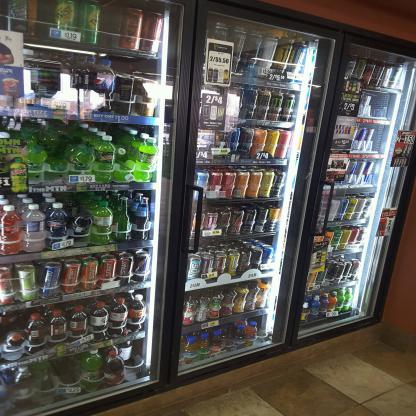Void: (61, 360, 79, 395), (40, 2, 54, 35), (106, 4, 114, 46)
